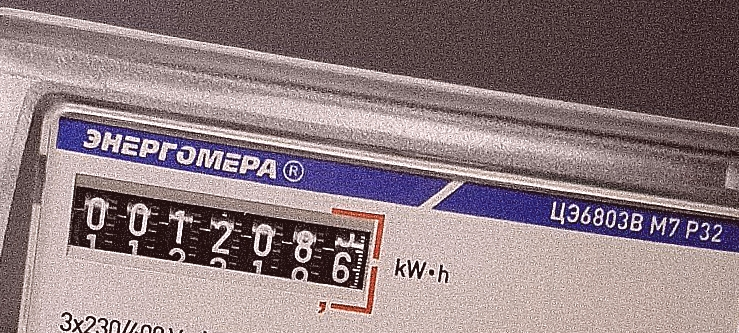0: (81, 190, 112, 232), (124, 198, 153, 238), (248, 219, 276, 257)
1: (166, 205, 191, 246)
2: (207, 215, 237, 256)
6: (327, 246, 354, 285)
8: (288, 225, 318, 265)
screen: (54, 164, 395, 320)
